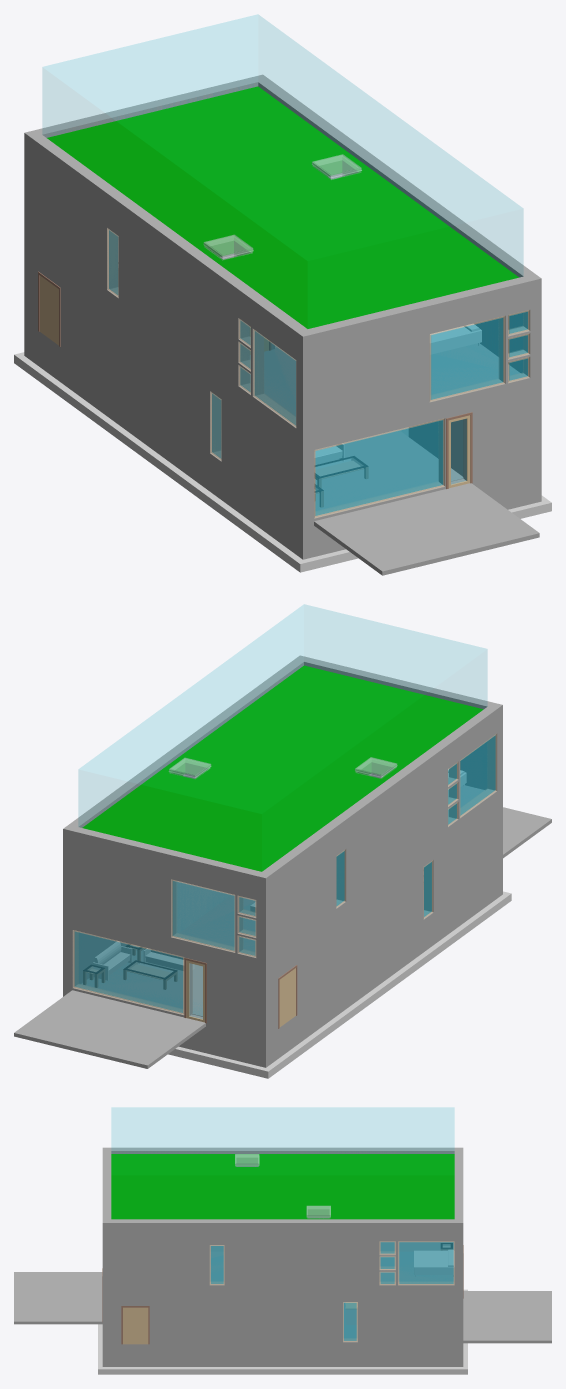
Rendered from Duplex.glb.
3 renders of one model, top to bottom at view 1: azimuth 30°, elevation 25°; view 2: azimuth 150°, elevation 25°; view 3: azimuth 270°, elevation 25°, orthographic. The views are drawn at different scales.
Visible parts, largest first — view 1: 3ThA22djr8AQQ9eQMA5s7I, 0pNy6pOyf7JPmXRLgxs3sW, 2O2Fr$t4X7Zf8NOew3FNhv, 2O2Fr$t4X7Zf8NOew3FLPP, 2O2Fr$t4X7Zf8NOew3FLOH, 1CZILmCaHETO8tf3SgGEXu, 2O2Fr$t4X7Zf8NOew3FNr2, 2O2Fr$t4X7Zf8NOew3FKE5, 1hOSvn6df7F8_7GcBWlRBU, 0jf0rYHfX3RAB3bSIRjmr1, 2OBrcmyk58NupXoVOHUtxr, 0jf0rYHfX3RAB3bSIRjmoa (+20 smaller); view 2: 3ThA22djr8AQQ9eQMA5s7I, 0pNy6pOyf7JPmXRLgxs3sW, 2O2Fr$t4X7Zf8NOew3FNhv, 2O2Fr$t4X7Zf8NOew3FLPP, 2O2Fr$t4X7Zf8NOew3FLQD, 2O2Fr$t4X7Zf8NOew3FNtn, 1CZILmCaHETO8tf3SgGEWh, 2O2Fr$t4X7Zf8NOew3FKE5, 1hOSvn6df7F8_7GcBWlR72, 0jf0rYHfX3RAB3bSIRjmr1, 0jf0rYHfX3RAB3bSIRjmmy, 1hOSvn6df7F8_7GcBWlSXO (+20 smaller); view 3: 3ThA22djr8AQQ9eQMA5s7I, 2O2Fr$t4X7Zf8NOew3FNqI, 2O2Fr$t4X7Zf8NOew3FLR9, 0pNy6pOyf7JPmXRLgxs3sW, 2O2Fr$t4X7Zf8NOew3FK9N, 0jf0rYHfX3RAB3bSIRjmpw, 1CZILmCaHETO8tf3SgGEXu, 1CZILmCaHETO8tf3SgGEWh, 0kF45Qs8L9PAM9kmb1lT5d, 1l0GAJtRTFv8$zmKJOH4pU, 0jf0rYHfX3RAB3bSIRjmr1, 1hOSvn6df7F8_7GcBWlRGQ (+10 smaller).
Boxes of the visible parts, x1,y1,x2,y2 form: 3ThA22djr8AQQ9eQMA5s7I: [47, 86, 518, 328]; 0pNy6pOyf7JPmXRLgxs3sW: [43, 15, 522, 276]; 2O2Fr$t4X7Zf8NOew3FNhv: [31, 237, 296, 518]; 2O2Fr$t4X7Zf8NOew3FLPP: [24, 150, 302, 435]; 2O2Fr$t4X7Zf8NOew3FLOH: [303, 296, 541, 436]; 1CZILmCaHETO8tf3SgGEXu: [314, 483, 539, 575]; 2O2Fr$t4X7Zf8NOew3FNr2: [296, 381, 530, 524]; 2O2Fr$t4X7Zf8NOew3FKE5: [31, 325, 296, 554]; 1hOSvn6df7F8_7GcBWlRBU: [314, 418, 444, 518]; 0jf0rYHfX3RAB3bSIRjmr1: [31, 135, 307, 348]; 2OBrcmyk58NupXoVOHUtxr: [314, 427, 463, 511]; 0jf0rYHfX3RAB3bSIRjmoa: [296, 276, 530, 353]; 3ThA22djr8AQQ9eQMA5s7I: [82, 665, 483, 871]; 0pNy6pOyf7JPmXRLgxs3sW: [79, 605, 486, 826]; 2O2Fr$t4X7Zf8NOew3FNhv: [271, 794, 497, 1032]; 2O2Fr$t4X7Zf8NOew3FLPP: [266, 720, 502, 962]; 2O2Fr$t4X7Zf8NOew3FLQD: [63, 843, 265, 962]; 2O2Fr$t4X7Zf8NOew3FNtn: [63, 913, 271, 1037]; 1CZILmCaHETO8tf3SgGEWh: [14, 990, 205, 1068]; 2O2Fr$t4X7Zf8NOew3FKE5: [271, 869, 497, 1063]; 1hOSvn6df7F8_7GcBWlR72: [72, 930, 184, 1014]; 0jf0rYHfX3RAB3bSIRjmr1: [262, 706, 497, 888]; 0jf0rYHfX3RAB3bSIRjmmy: [63, 825, 271, 892]; 1hOSvn6df7F8_7GcBWlSXO: [171, 879, 235, 952]; 3ThA22djr8AQQ9eQMA5s7I: [111, 1154, 454, 1219]; 2O2Fr$t4X7Zf8NOew3FNqI: [102, 1287, 454, 1344]; 2O2Fr$t4X7Zf8NOew3FLR9: [102, 1234, 463, 1287]; 0pNy6pOyf7JPmXRLgxs3sW: [112, 1108, 453, 1153]; 2O2Fr$t4X7Zf8NOew3FK9N: [102, 1344, 454, 1366]; 0jf0rYHfX3RAB3bSIRjmpw: [102, 1219, 454, 1233]; 1CZILmCaHETO8tf3SgGEXu: [14, 1272, 102, 1324]; 1CZILmCaHETO8tf3SgGEWh: [463, 1291, 551, 1343]; 0kF45Qs8L9PAM9kmb1lT5d: [98, 1361, 467, 1374]; 1l0GAJtRTFv8$zmKJOH4pU: [398, 1241, 454, 1285]; 0jf0rYHfX3RAB3bSIRjmr1: [111, 1147, 454, 1153]; 1hOSvn6df7F8_7GcBWlRGQ: [121, 1306, 149, 1344].
Bounding box in the file's own units: 9.28 × 10.55 × 26.57.
